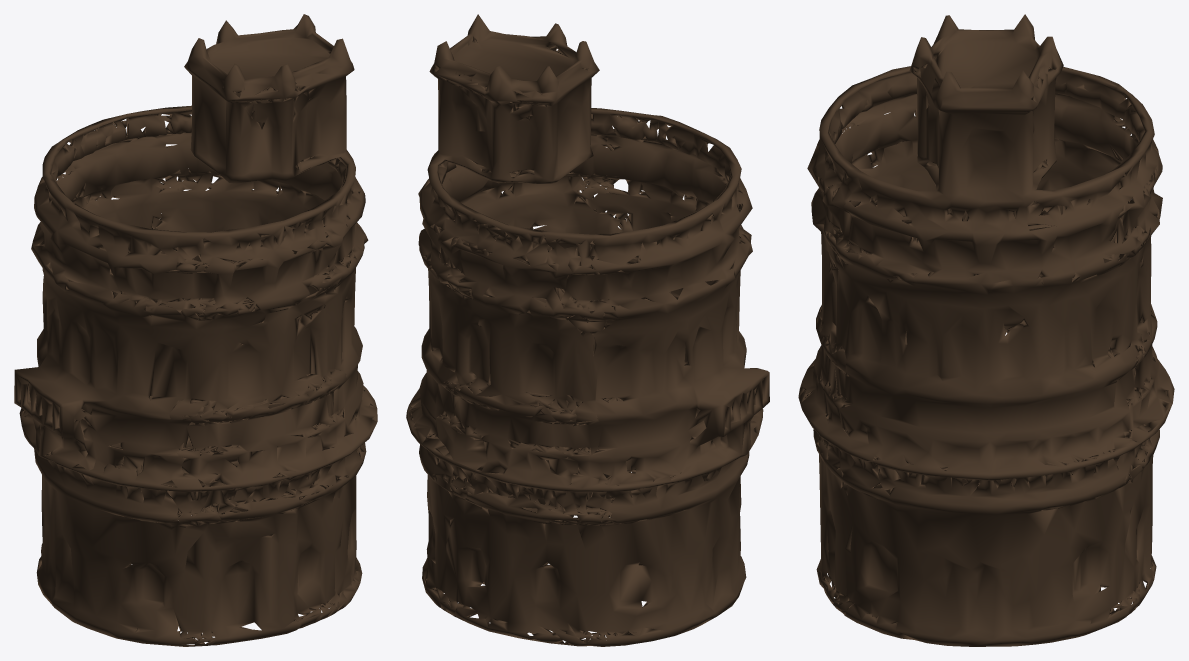
Rendered from khublada-buruj.glb.
The picture shows the model from 3 angles, left to right: view 1: azimuth 30°, elevation 25°; view 2: azimuth 150°, elevation 25°; view 3: azimuth 270°, elevation 25°; orthographic projection. The views are drawn at different scales.
Visible parts, largest first — view 1: tmpwayqdzkl.ply; view 2: tmpwayqdzkl.ply; view 3: tmpwayqdzkl.ply.
Part boxes in pixels (bbox=[...]): tmpwayqdzkl.ply: bbox=[14, 14, 377, 646]; tmpwayqdzkl.ply: bbox=[406, 14, 769, 646]; tmpwayqdzkl.ply: bbox=[798, 14, 1174, 646].
Bounding box in the file's own units: 1.25 × 1.96 × 1.17.
